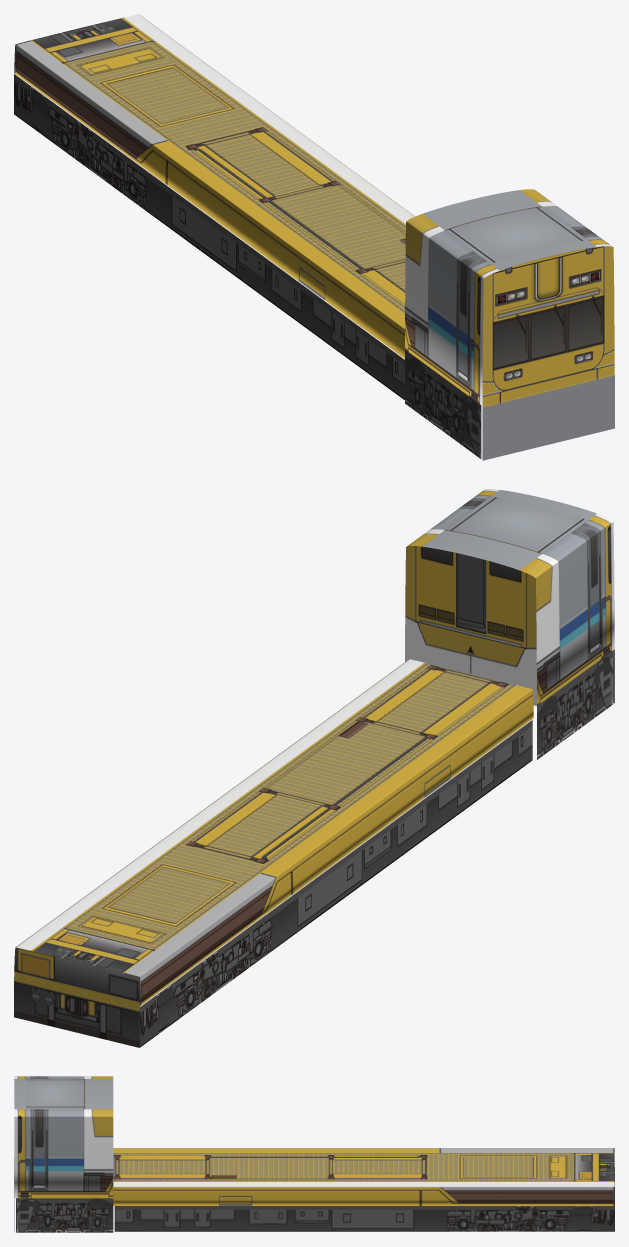
File: car1.glb
3 renders of one model, top to bottom at view 1: azimuth 30°, elevation 25°; view 2: azimuth 150°, elevation 25°; view 3: azimuth 270°, elevation 25°, orthographic. The views are drawn at different scales.
Visible parts, largest first — view 1: jr-tokai-kiya97-car1; view 2: jr-tokai-kiya97-car1; view 3: jr-tokai-kiya97-car1.
Part boxes in pixels (x1,y1,x2,y2): jr-tokai-kiya97-car1: (14,14,614,460); jr-tokai-kiya97-car1: (14,489,614,1047); jr-tokai-kiya97-car1: (14,1076,614,1232).
Bounding box in the file's own units: 2.94 × 4 × 18.23.
Materials: 15 (14 with a texture image).
